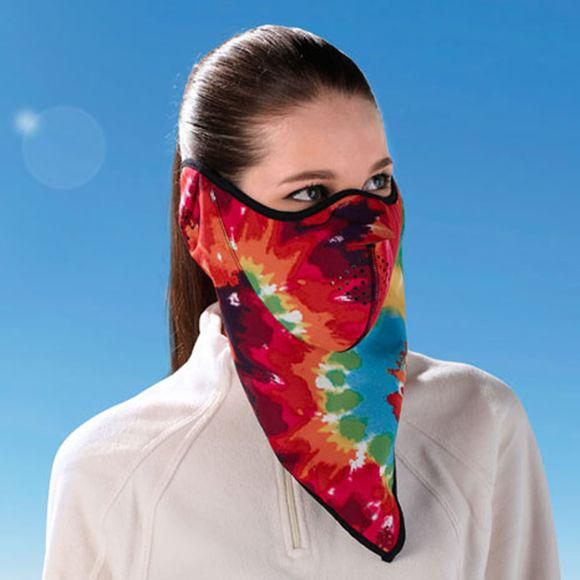OK: (204, 131, 398, 342)
